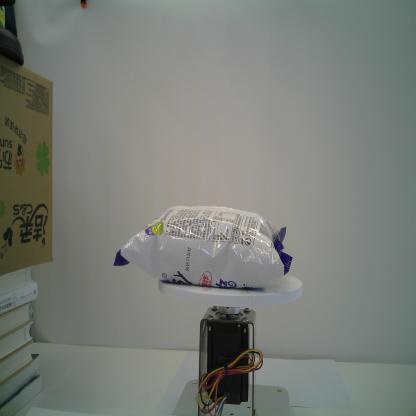Puffed Food: (112, 202, 294, 291)
